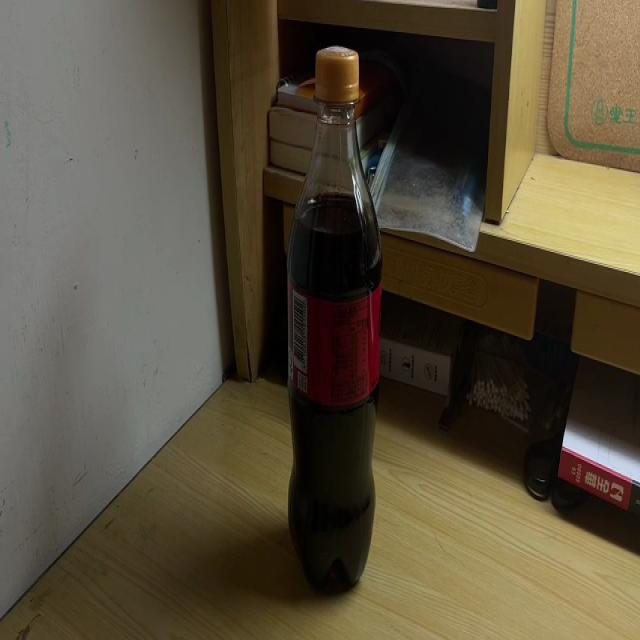Coca-Cola: (289, 48, 381, 590)
